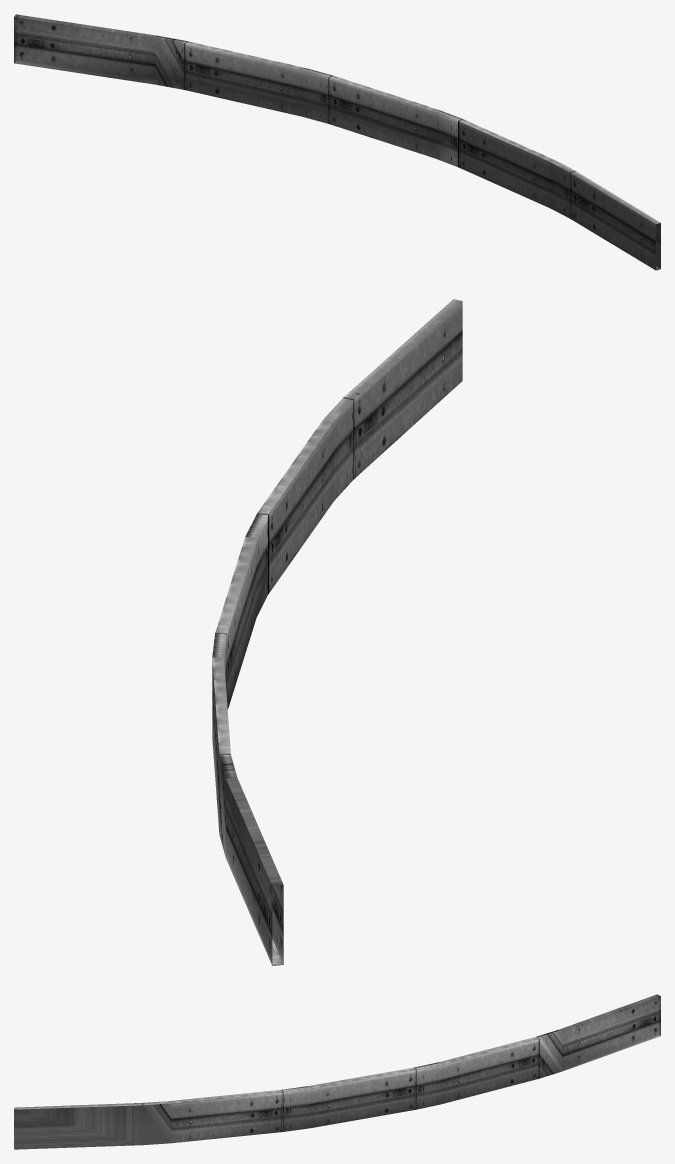
File: 45guard.FBX
The picture shows the model from 3 angles, top to bottom: view 1: azimuth 30°, elevation 25°; view 2: azimuth 150°, elevation 25°; view 3: azimuth 270°, elevation 25°; orthographic projection. The views are drawn at different scales.
Parts seen in each view (by area): view 1: Object006; view 2: Object006; view 3: Object006.
Part boxes in pixels (x1,y1,x2,y2): Object006: (14, 14, 660, 270); Object006: (212, 299, 462, 965); Object006: (14, 994, 660, 1149).
Bounding box in the file's own units: 597 × 96.2 × 1413.
